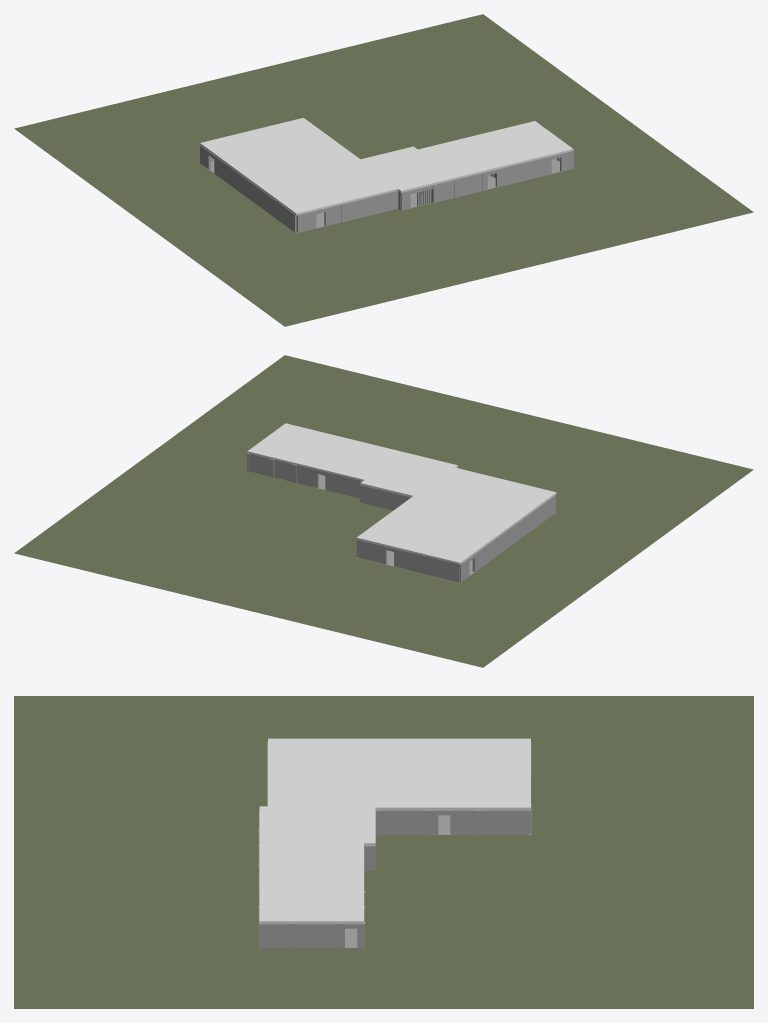
File: map.fbx
3 renders of one model, top to bottom at view 1: azimuth 30°, elevation 25°; view 2: azimuth 150°, elevation 25°; view 3: azimuth 270°, elevation 25°, orthographic. The views are drawn at different scales.
Visible parts, largest first — view 1: Plane.001; view 2: Plane.001; view 3: Plane.001.
Part boxes in pixels (x1,y1,x2,y2): Plane.001: [14, 14, 753, 326]; Plane.001: [14, 355, 753, 667]; Plane.001: [14, 696, 753, 1008].
Size of the model in its own units: 9450 by 397 by 9450.
